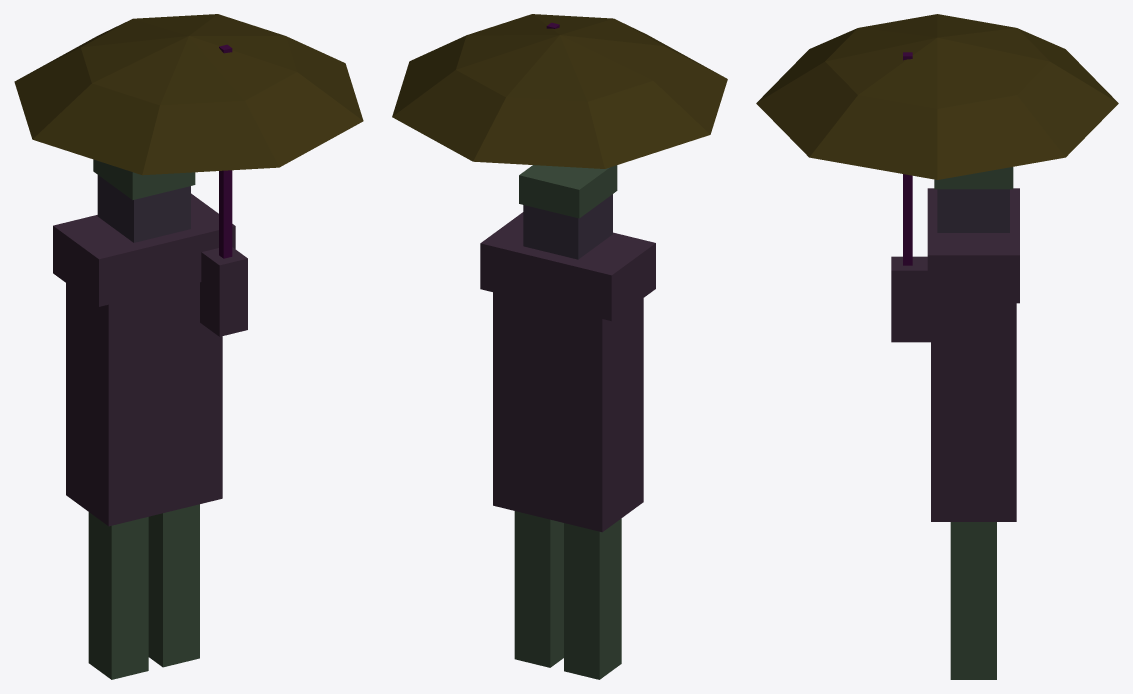
File: walker_b.glb
3 views of the same model, side by side, from view 1: azimuth 30°, elevation 25°; view 2: azimuth 150°, elevation 25°; view 3: azimuth 270°, elevation 25° (orthographic). The views are drawn at different scales.
Visible parts, largest first — view 1: walker_b; view 2: walker_b; view 3: walker_b.
Part boxes in pixels (<box>): walker_b: <box>14,14,363,679</box>; walker_b: <box>392,14,727,679</box>; walker_b: <box>756,14,1118,679</box>.
Bounding box in the file's own units: 1.1 × 2.12 × 1.1.
